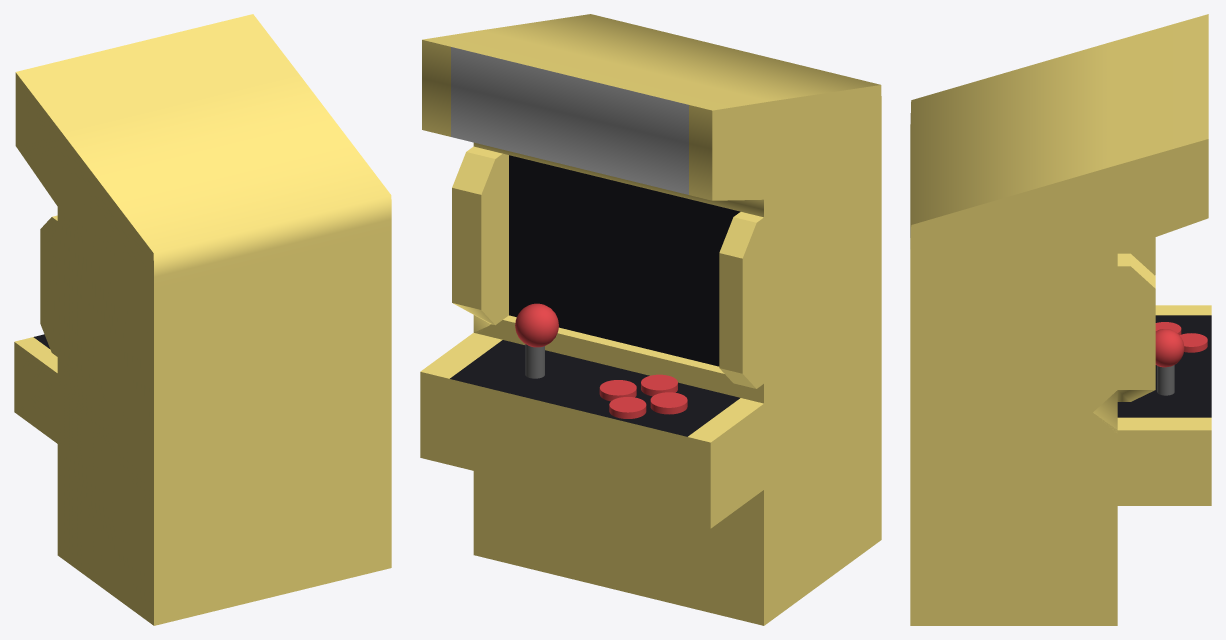
File: borne_arcade.fbx
3 renders of one model, left to right at view 1: azimuth 30°, elevation 25°; view 2: azimuth 150°, elevation 25°; view 3: azimuth 270°, elevation 25°, orthographic. The views are drawn at different scales.
Visible parts, largest first — view 1: Cube; view 2: Cube, Cylinder_5, Cylinder; view 3: Cube, Cylinder_5, Cylinder.
Boxes of the visible parts, x1,y1,x2,y2 form: Cube: (14,14,391,625); Cube: (420,14,881,625); Cylinder_5: (515,303,687,418); Cylinder: (525,344,544,378); Cube: (910,14,1211,625); Cylinder_5: (1155,322,1207,367); Cylinder: (1157,365,1174,395).
Bounding box in the file's own units: 21.6 × 39.3 × 22.01.
